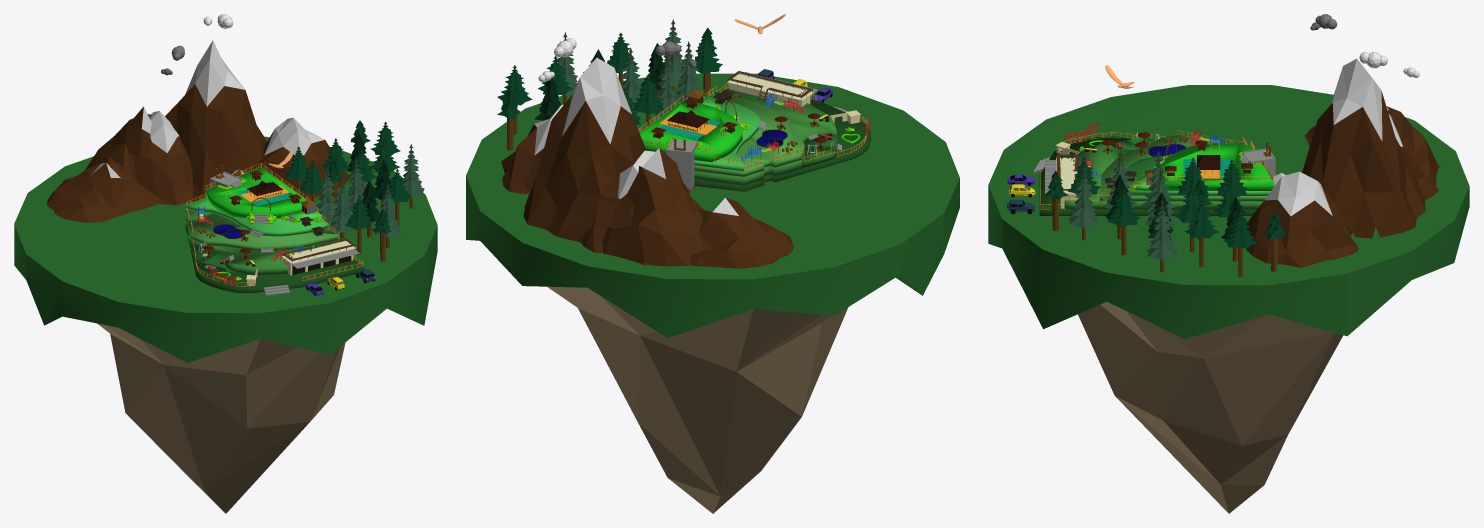
File: DUNGKLURUK_FINAL.glb
3 views of the same model, side by side, from view 1: azimuth 30°, elevation 25°; view 2: azimuth 150°, elevation 25°; view 3: azimuth 270°, elevation 25° (orthographic). The views are drawn at different scales.
Visible parts, largest first — view 1: 3DSMeshMatrix.087, Gunung, pCylinder5_bark_1_0.007, Layer 5, Layer 2, Layer 8, Plane.023, Layer 4, Layer 6, Pagar, Pendopo5, Layer 3 (+2 smaller); view 2: 3DSMeshMatrix.087, Gunung, pCylinder5_bark_1_0.007, Layer 5, Layer 8, Layer 4, Layer 2, Plane.023, Layer 6, Pendopo5, Pagar, Gardu Pandang1 (+2 smaller); view 3: 3DSMeshMatrix.087, Gunung, pCylinder5_bark_1_0.007, Layer 8, Layer 4, Layer 5, Layer 2, Plane.023, Pagar, Offroad Body, Layer 6, Awan1 (+2 smaller).
Part boxes in pixels (<box>): 3DSMeshMatrix.087: <box>14,136,437,513</box>; Gunung: <box>47,40,349,222</box>; pCylinder5_bark_1_0.007: <box>285,120,424,261</box>; Layer 5: <box>185,210,338,250</box>; Layer 2: <box>185,223,364,292</box>; Layer 8: <box>206,167,306,218</box>; Plane.023: <box>281,238,359,275</box>; Layer 4: <box>185,216,353,275</box>; Layer 6: <box>185,198,328,236</box>; Pagar: <box>186,163,363,286</box>; Pendopo5: <box>238,180,290,206</box>; Layer 3: <box>191,244,231,270</box>; 3DSMeshMatrix.087: <box>466,73,959,513</box>; Gunung: <box>501,57,793,268</box>; pCylinder5_bark_1_0.007: <box>497,19,722,150</box>; Layer 5: <box>694,92,804,176</box>; Layer 8: <box>639,101,742,162</box>; Layer 4: <box>694,87,836,185</box>; Layer 2: <box>694,99,870,191</box>; Plane.023: <box>727,71,817,106</box>; Layer 6: <box>694,95,759,171</box>; Pendopo5: <box>659,110,720,139</box>; Pagar: <box>638,83,867,170</box>; Gardu Pandang1: <box>666,137,697,190</box>; 3DSMeshMatrix.087: <box>988,85,1469,513</box>; Gunung: <box>1246,58,1440,267</box>; pCylinder5_bark_1_0.007: <box>1045,150,1285,277</box>; Layer 8: <box>1160,143,1274,190</box>; Layer 4: <box>1064,143,1263,210</box>; Layer 5: <box>1100,134,1267,201</box>; Layer 2: <box>1039,136,1256,215</box>; Plane.023: <box>1045,154,1078,208</box>; Pagar: <box>1040,130,1273,209</box>; Offroad Body: <box>1007,174,1035,214</box>; Layer 6: <box>1124,142,1270,195</box>; Awan1: <box>1310,14,1419,77</box>.
Size of the model in its own units: 0.975 by 1.13 by 0.9885.
